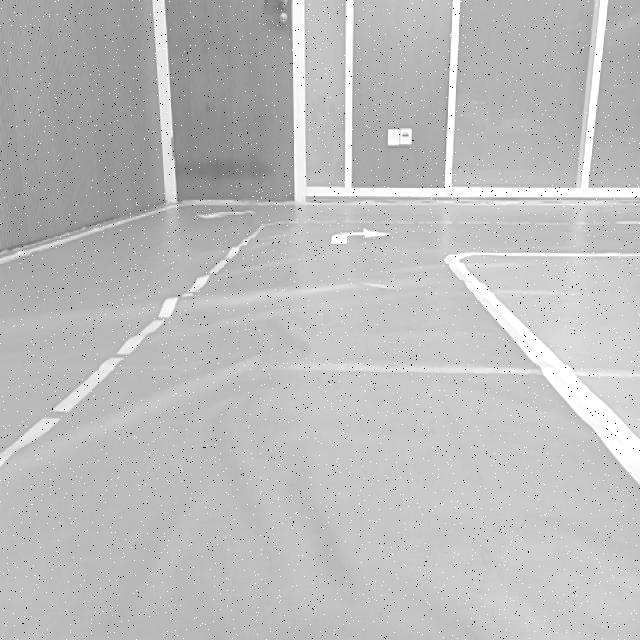left_lane: (0, 225, 264, 470)
right_lane: (445, 263, 640, 484)
